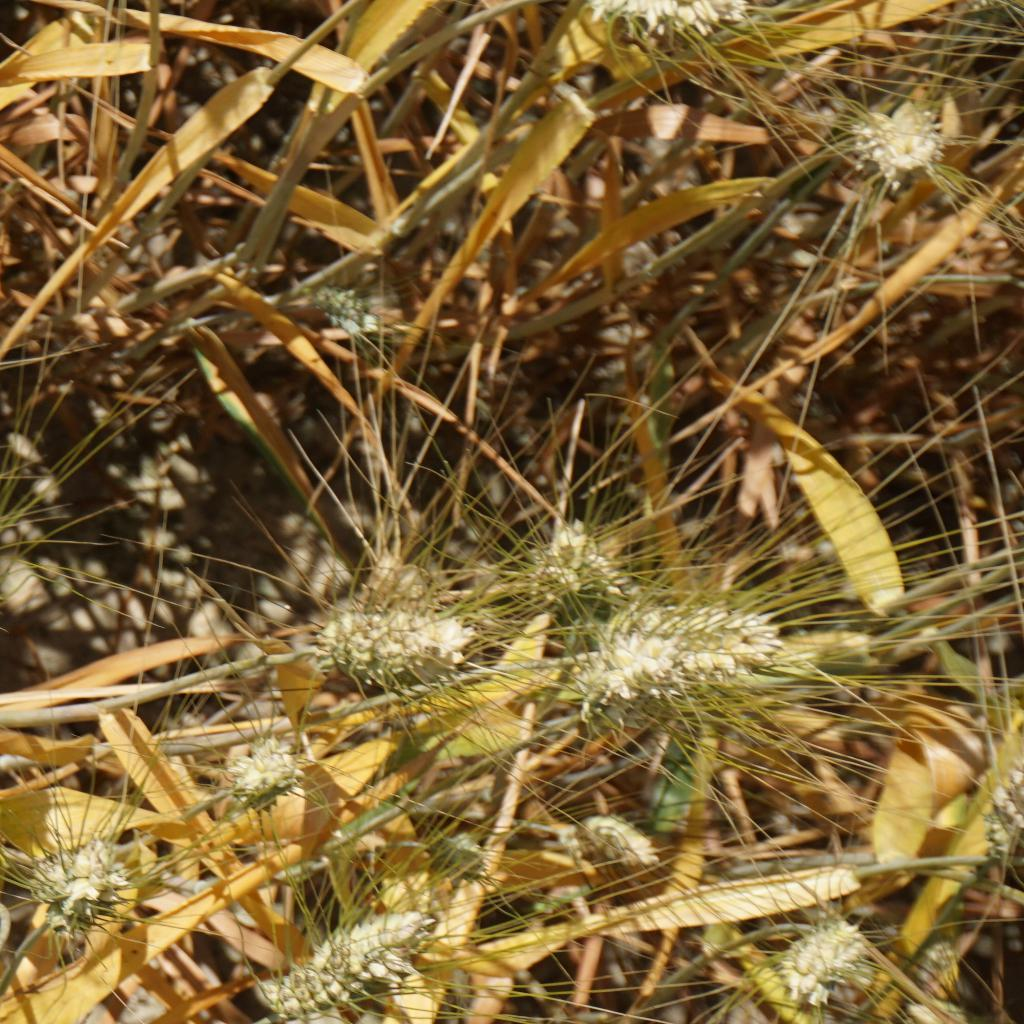0-0: (584, 603, 772, 697), (36, 841, 135, 966), (582, 659, 734, 740), (325, 619, 484, 685), (252, 954, 401, 1024), (846, 78, 951, 171), (512, 513, 614, 602), (775, 915, 870, 1010), (332, 546, 445, 619), (564, 808, 677, 875), (304, 906, 435, 959), (605, 0, 734, 45), (398, 820, 499, 876), (222, 730, 296, 805), (316, 284, 384, 340)
